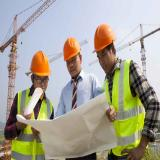Helmet: (92, 23, 118, 52), (30, 50, 51, 76), (63, 36, 83, 60)
Vest: (98, 59, 148, 155), (10, 87, 52, 160)
